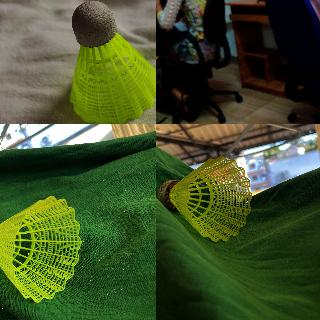shuttlecock: (68, 0, 155, 123), (0, 195, 81, 302), (156, 155, 252, 241)
